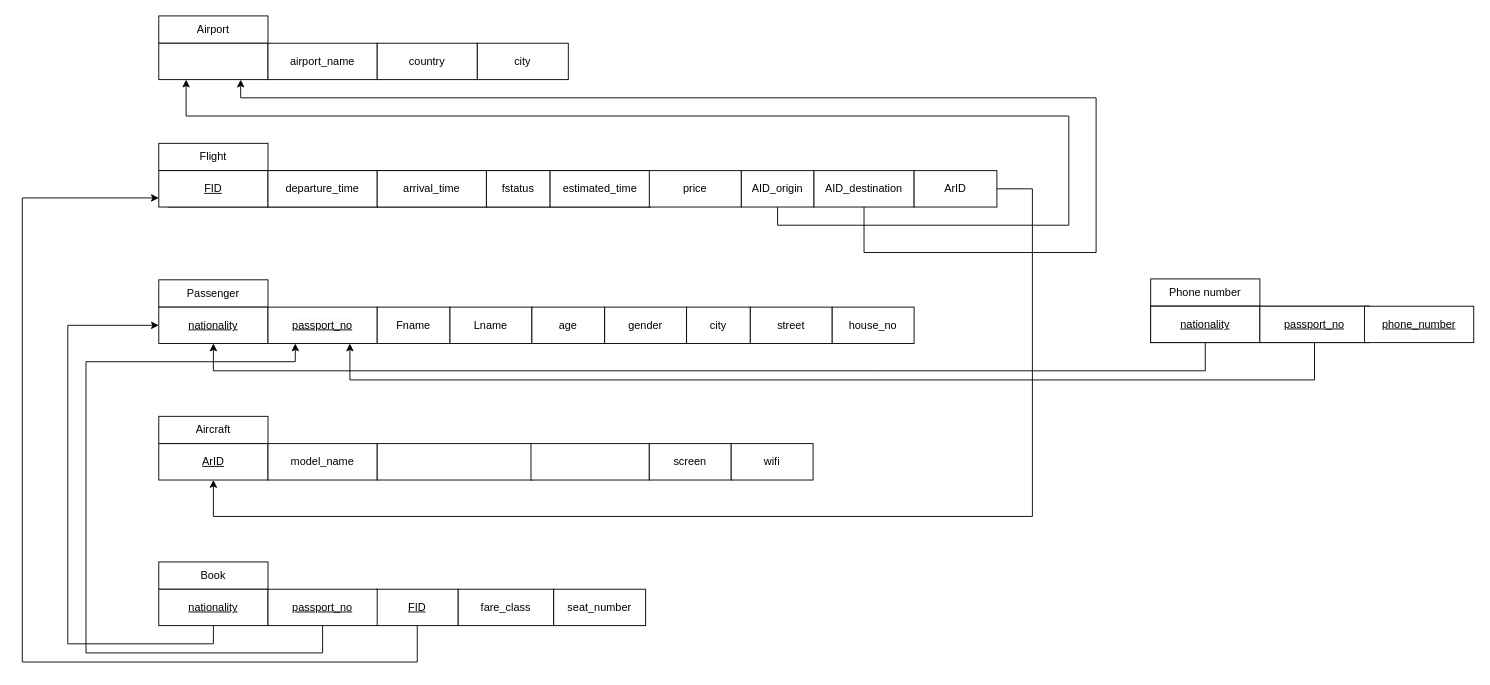
Image size: 1490x685. Some labels were removed from this diagram. Each missing label, with the centre of its shape:
AID: the point at 213,61
economy_class_capcity: the point at 454,461
first_class_capacity: the point at 589,461
